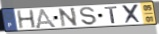A: (34, 7, 58, 28)
H: (16, 9, 38, 30)
N: (57, 7, 79, 28)
S: (79, 7, 98, 26)
T: (104, 6, 119, 25)
X: (121, 4, 143, 25)
